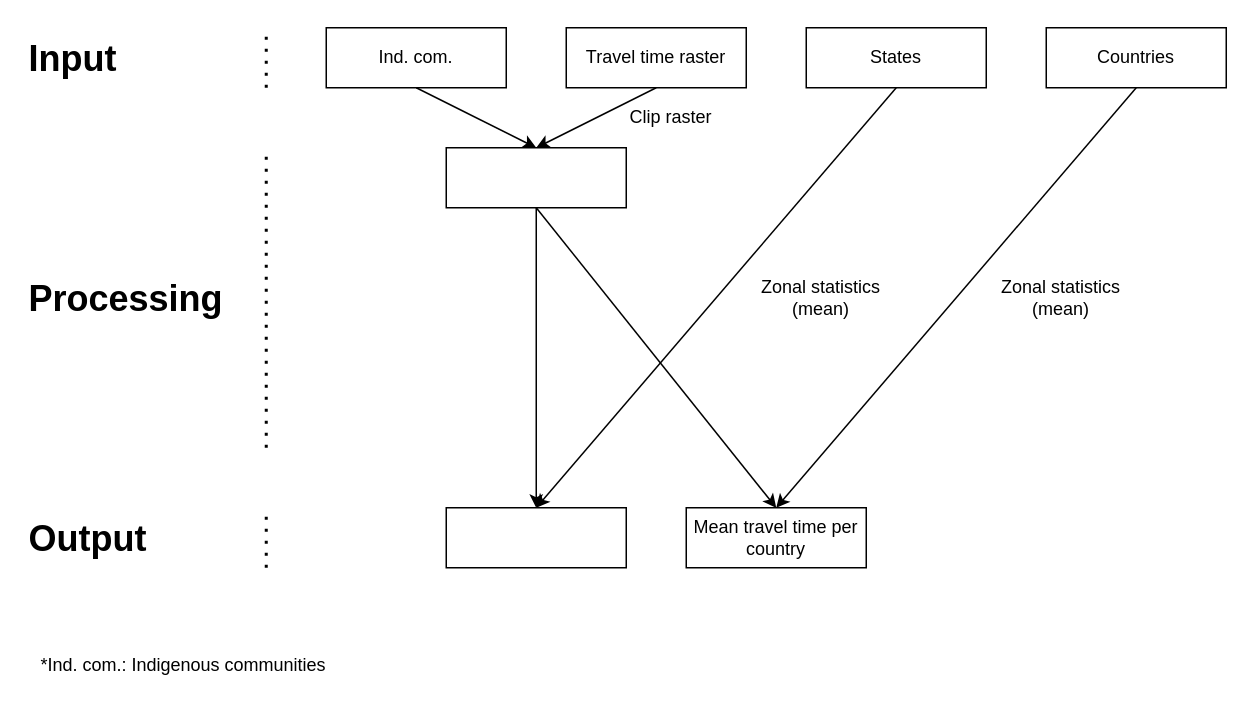
Image size: 1253x713. Some labels were removed from this diagram. The shapes that lost their labels are listed below. From the top down, each one's centre as x and y in pixels, then its label:
At [535,177]: "Travel time raster for ind. com.".
At [535,537]: "Mean travel time per state".
